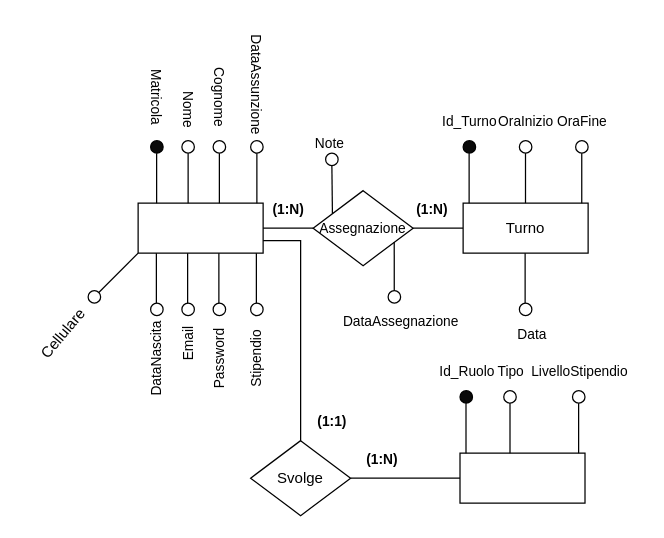
The diagram is 664 pixels wide and 538 high, and some of its shapes have lost their labels. Here are the shapes that lost their labels. From the top down, the box of each, then its label:
(137, 202, 263, 253): Dipendente
(459, 452, 585, 503): Ruolo
